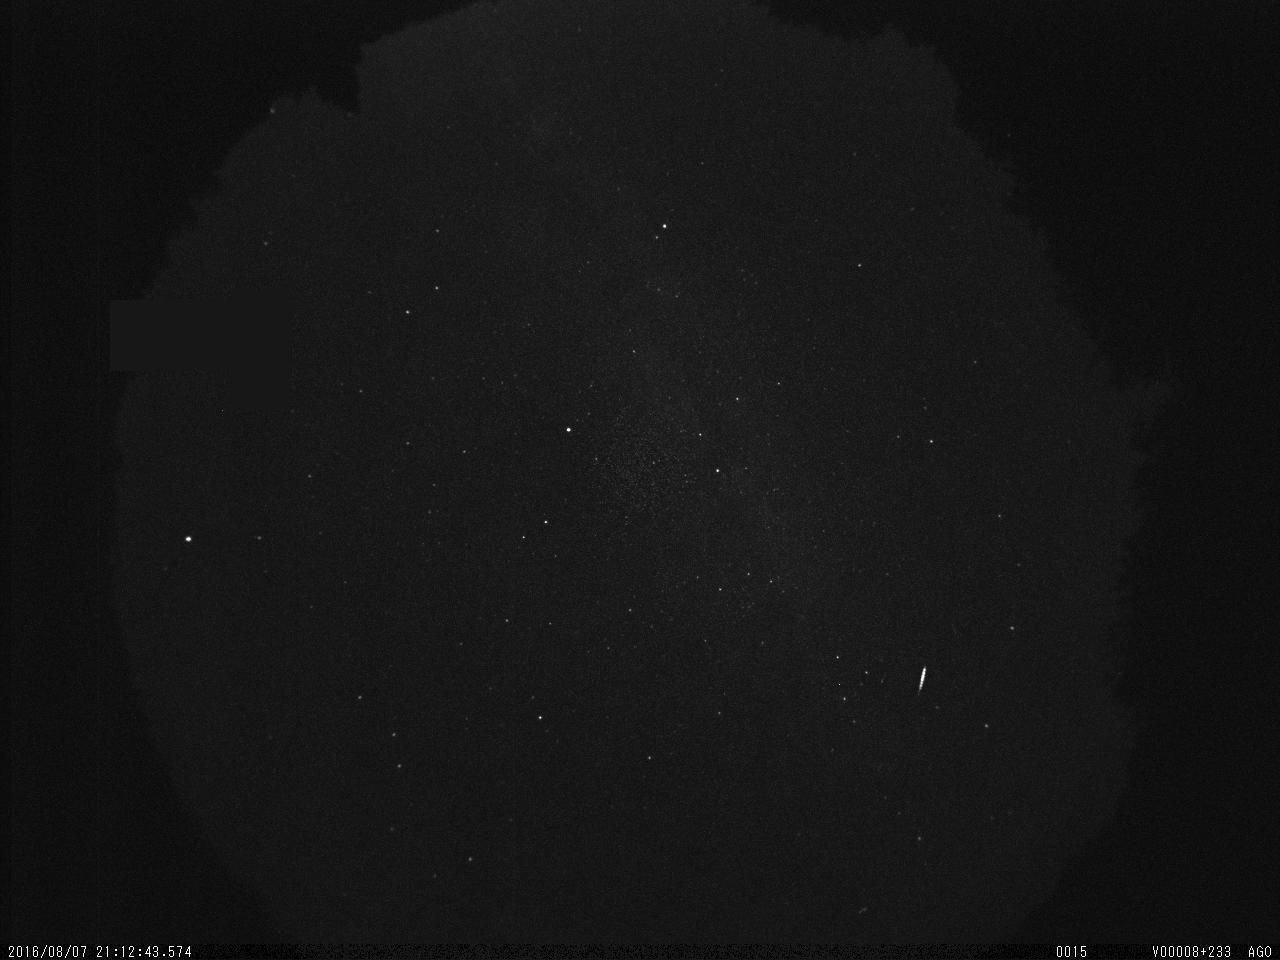Meteor: (914, 664, 928, 694)
